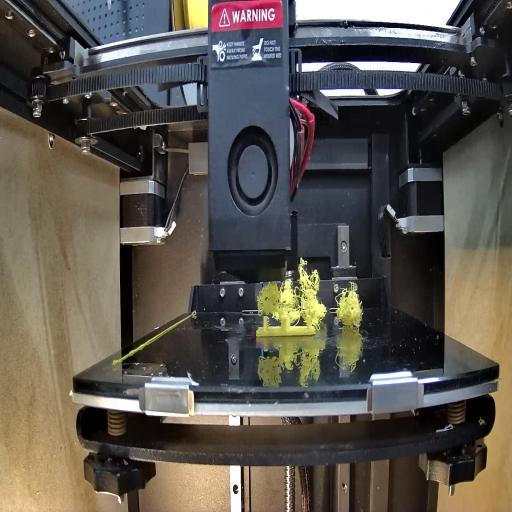spaghetti: (260, 258, 328, 325), (338, 291, 364, 325)
